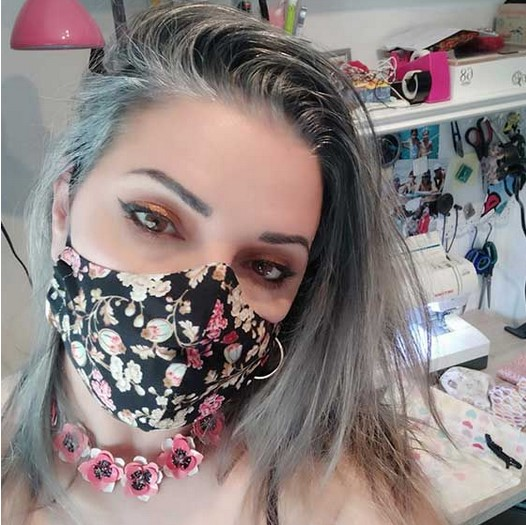face_with_mask: (46, 60, 325, 431)
